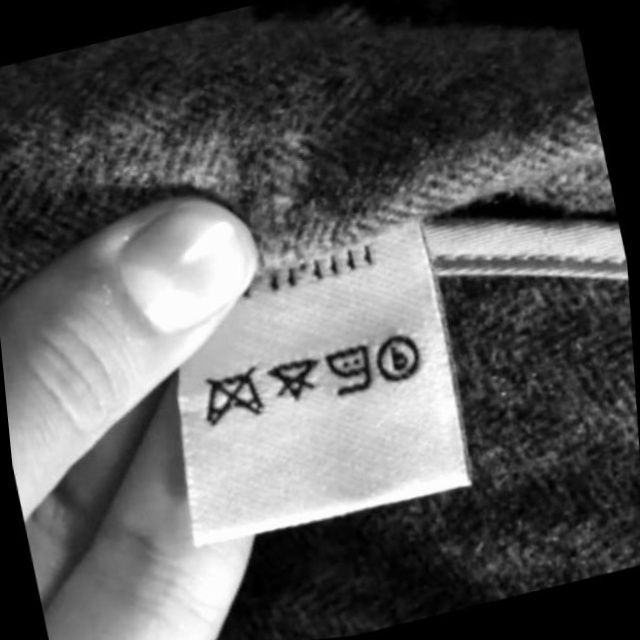DN_bleach: (265, 352, 324, 406)
DN_wash: (200, 358, 265, 426)
dry_clean_any_solvent_except_trichloroethylene: (373, 325, 428, 387)
iron_medium: (323, 339, 376, 399)
